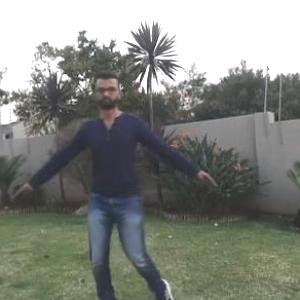land: (57, 94, 190, 259)
